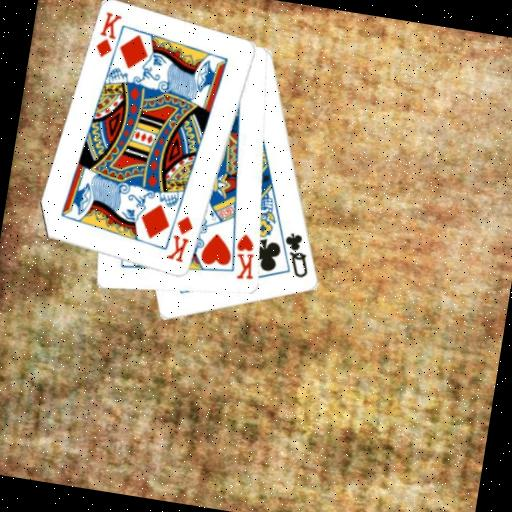KD: (163, 210, 196, 265), (91, 7, 124, 61)
KH: (228, 229, 261, 282)
QC: (277, 228, 316, 281)
